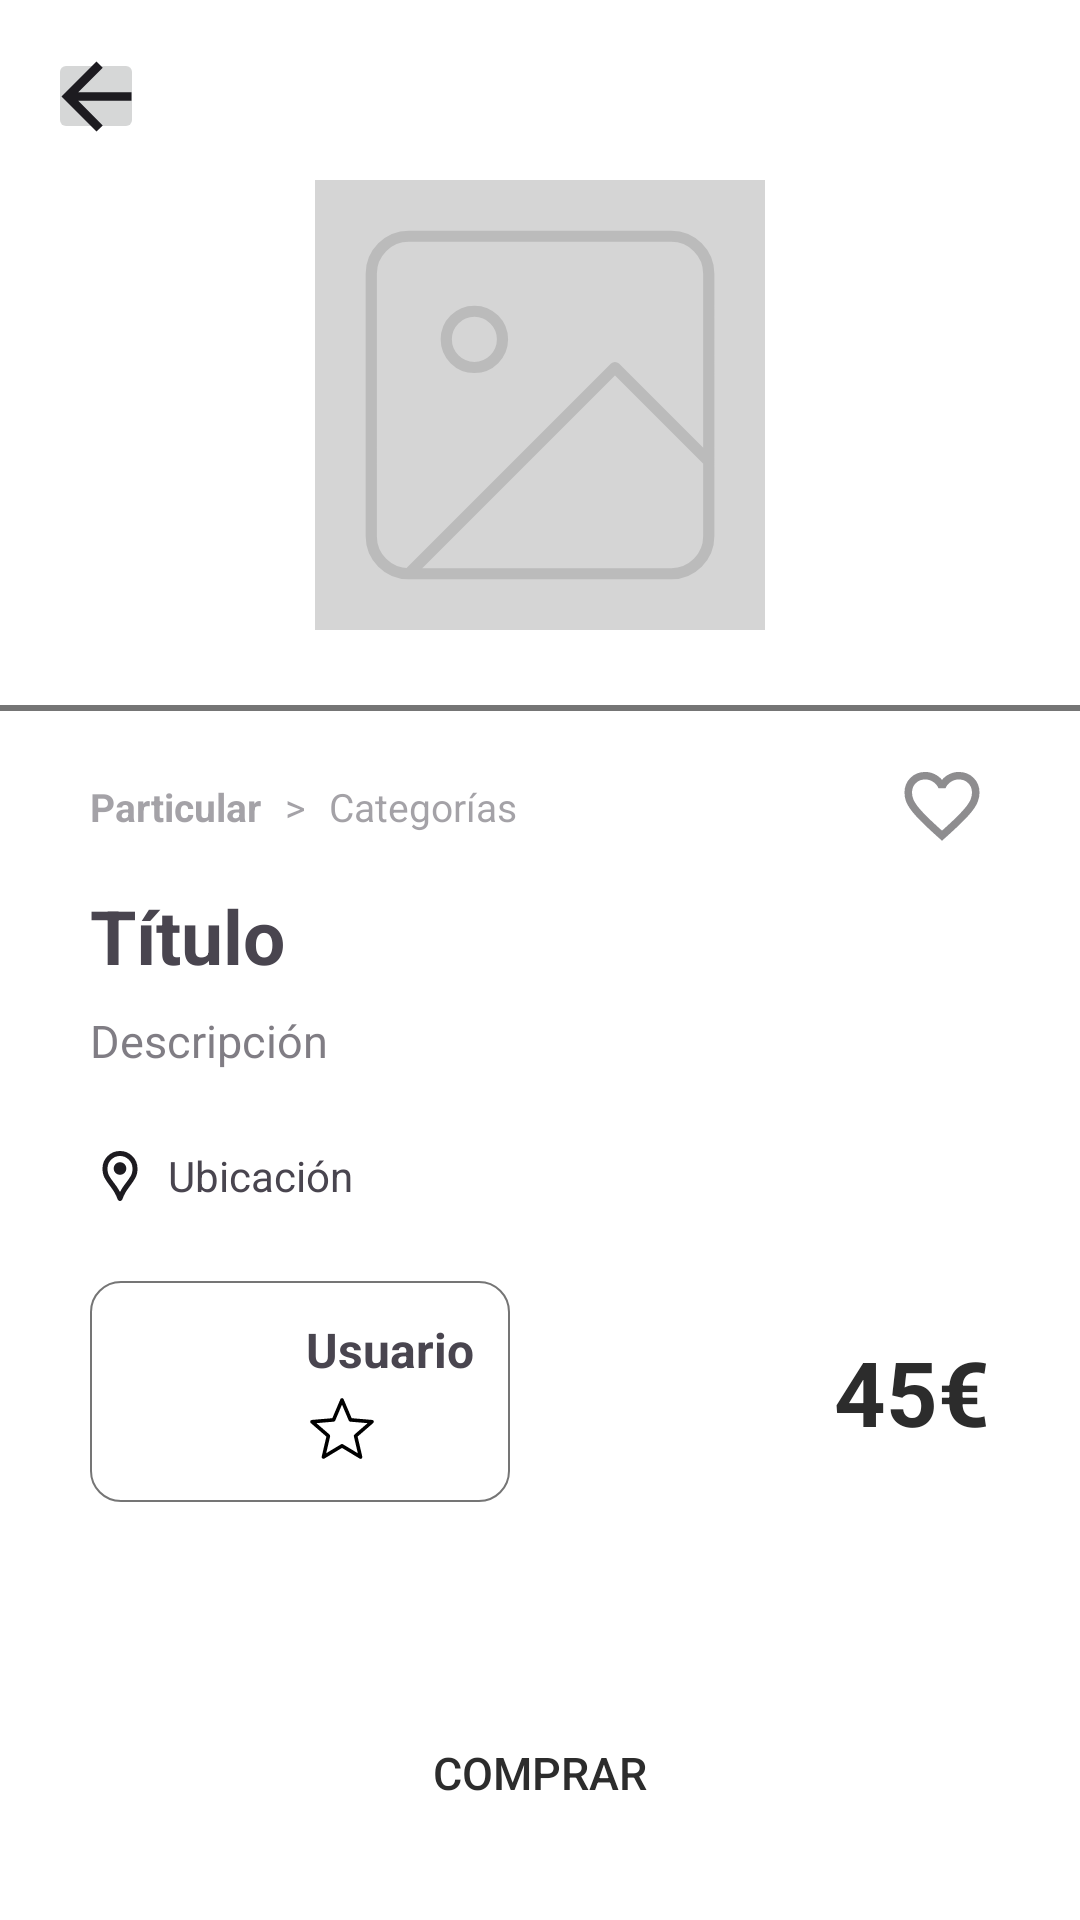

Locate icon controls on the screen. Image size 1080 x 1920, boxes as (x1, y1, x2, y2).
back: (60, 61, 132, 132)
like: (904, 772, 980, 841)
location: (102, 1151, 138, 1201)
star: (310, 1398, 374, 1459)
